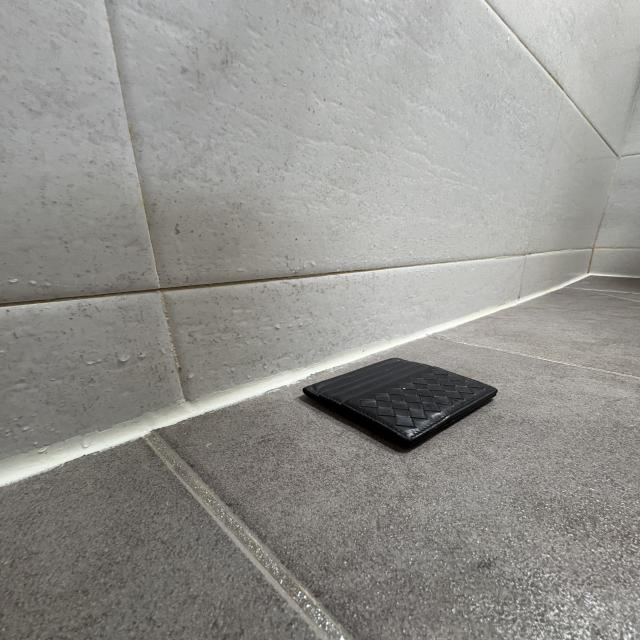wallet: (301, 357, 498, 457)
